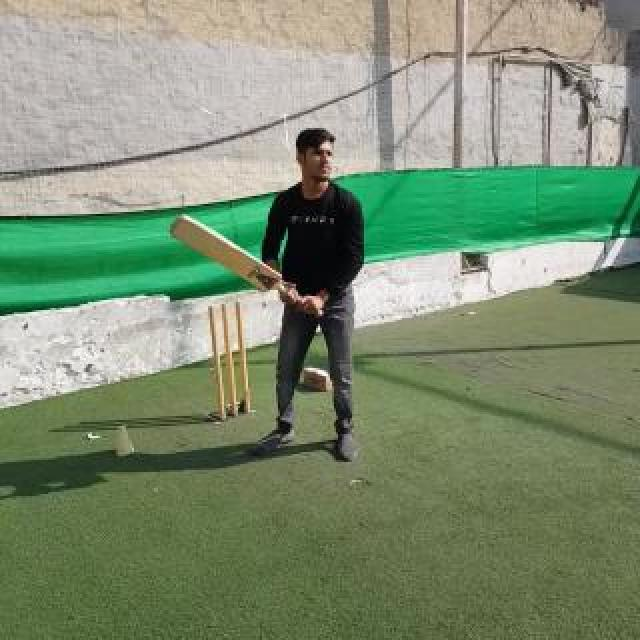bat: (170, 216, 324, 318)
